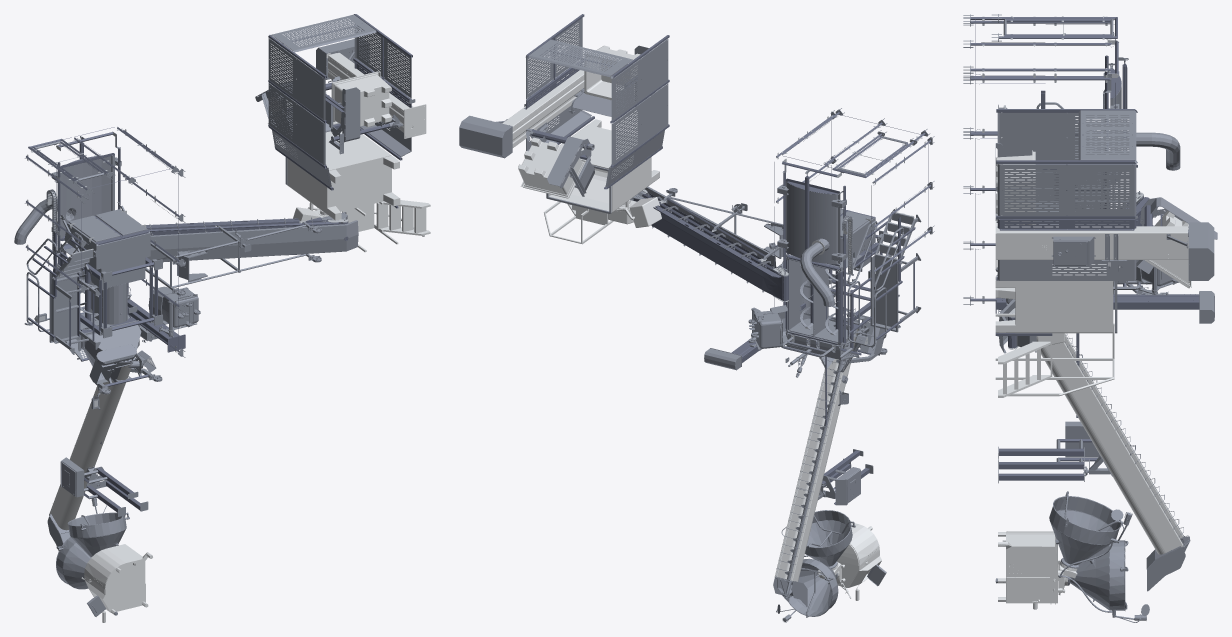
The model's file is linja-tarkka.glb.
3 renders of one model, left to right at view 1: azimuth 30°, elevation 25°; view 2: azimuth 150°, elevation 25°; view 3: azimuth 270°, elevation 25°, orthographic. The views are drawn at different scales.
Visible parts, largest first — view 1: 00104678/00104675, 00111341/00111340, 00104118/00104173, 00103920/00103985, 00103742/00105726, 00112477/00112183, 00112477/00112123, 00104678/00104677, 00112477/00112008, 00112477/00111841, 00103742/00105533, 00112477/00112264 (+17 smaller); view 2: 00104678/00104675, 00104118/00104173, 00103920/00103927, 00103742/00108393, 00112477/00112183, 00112477/00112123, 00112477/00111352, 00112477/00111838, 00108912/00108909, 00112477/00112264, 00111341/00111340, 00111341/00111337 (+13 smaller); view 3: 00112477/00112008, 00104118/00104173, 00104678/00104675, 00112477/00111352, 00112477/00112123, 00111341/00111340, 00108912/00108909, 00112477/00112264, 00111341/00111337, 00104678/00104677, 00112477/00112428, 00112477/00112009 (+22 smaller).
Boxes of the visible parts, x1=… form: 00104678/00104675: x1=287, y1=131, x2=400, y2=222; 00111341/00111340: x1=81, y1=544, x2=152, y2=622; 00104118/00104173: x1=49, y1=363, x2=132, y2=530; 00103920/00103985: x1=223, y1=224, x2=346, y2=258; 00103742/00105726: x1=60, y1=155, x2=114, y2=238; 00112477/00112183: x1=268, y1=83, x2=325, y2=165; 00112477/00112123: x1=268, y1=38, x2=325, y2=120; 00104678/00104677: x1=317, y1=200, x2=430, y2=252; 00112477/00112008: x1=354, y1=24, x2=411, y2=98; 00112477/00111841: x1=331, y1=71, x2=391, y2=126; 00103742/00105533: x1=96, y1=231, x2=150, y2=288; 00112477/00112264: x1=271, y1=14, x2=376, y2=52; 00104678/00104675: x1=548, y1=119, x2=661, y2=227; 00104118/00104173: x1=775, y1=328, x2=858, y2=581; 00103920/00103927: x1=633, y1=191, x2=788, y2=300; 00103742/00108393: x1=785, y1=182, x2=839, y2=264; 00112477/00112183: x1=611, y1=83, x2=668, y2=165; 00112477/00112123: x1=611, y1=39, x2=668, y2=120; 00112477/00111352: x1=502, y1=69, x2=584, y2=147; 00112477/00111838: x1=518, y1=137, x2=586, y2=198; 00108912/00108909: x1=804, y1=510, x2=855, y2=568; 00112477/00112264: x1=528, y1=39, x2=632, y2=76; 00111341/00111340: x1=836, y1=512, x2=881, y2=600; 00111341/00111337: x1=788, y1=558, x2=838, y2=617; 00112477/00112008: x1=997, y1=164, x2=1136, y2=216; 00104118/00104173: x1=1036, y1=335, x2=1183, y2=554; 00104678/00104675: x1=995, y1=262, x2=1113, y2=345; 00112477/00111352: x1=995, y1=220, x2=1188, y2=269; 00112477/00112123: x1=997, y1=112, x2=1132, y2=160; 00111341/00111340: x1=998, y1=531, x2=1067, y2=609; 00108912/00108909: x1=1049, y1=491, x2=1123, y2=577; 00112477/00112264: x1=1078, y1=110, x2=1136, y2=160; 00111341/00111337: x1=1058, y1=540, x2=1128, y2=615; 00104678/00104677: x1=995, y1=313, x2=1114, y2=397; 00112477/00112428: x1=997, y1=260, x2=1136, y2=280; 00112477/00112009: x1=997, y1=219, x2=1136, y2=230.
Bounding box in the file's own units: 9.45 × 12.13 × 4.49.
